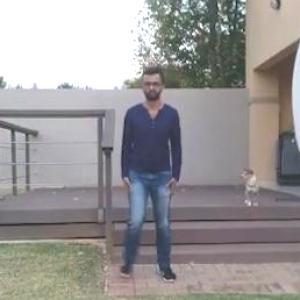follow: (116, 62, 183, 282)
